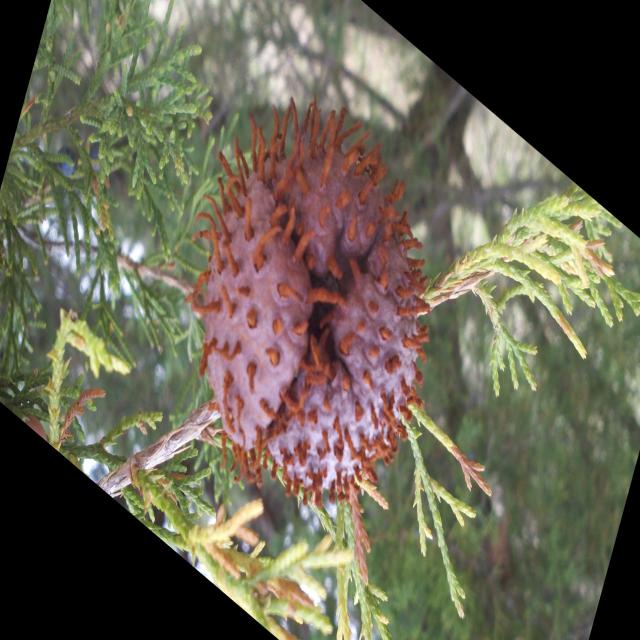Gymnosporangium_Rusts: (186, 91, 432, 513)
